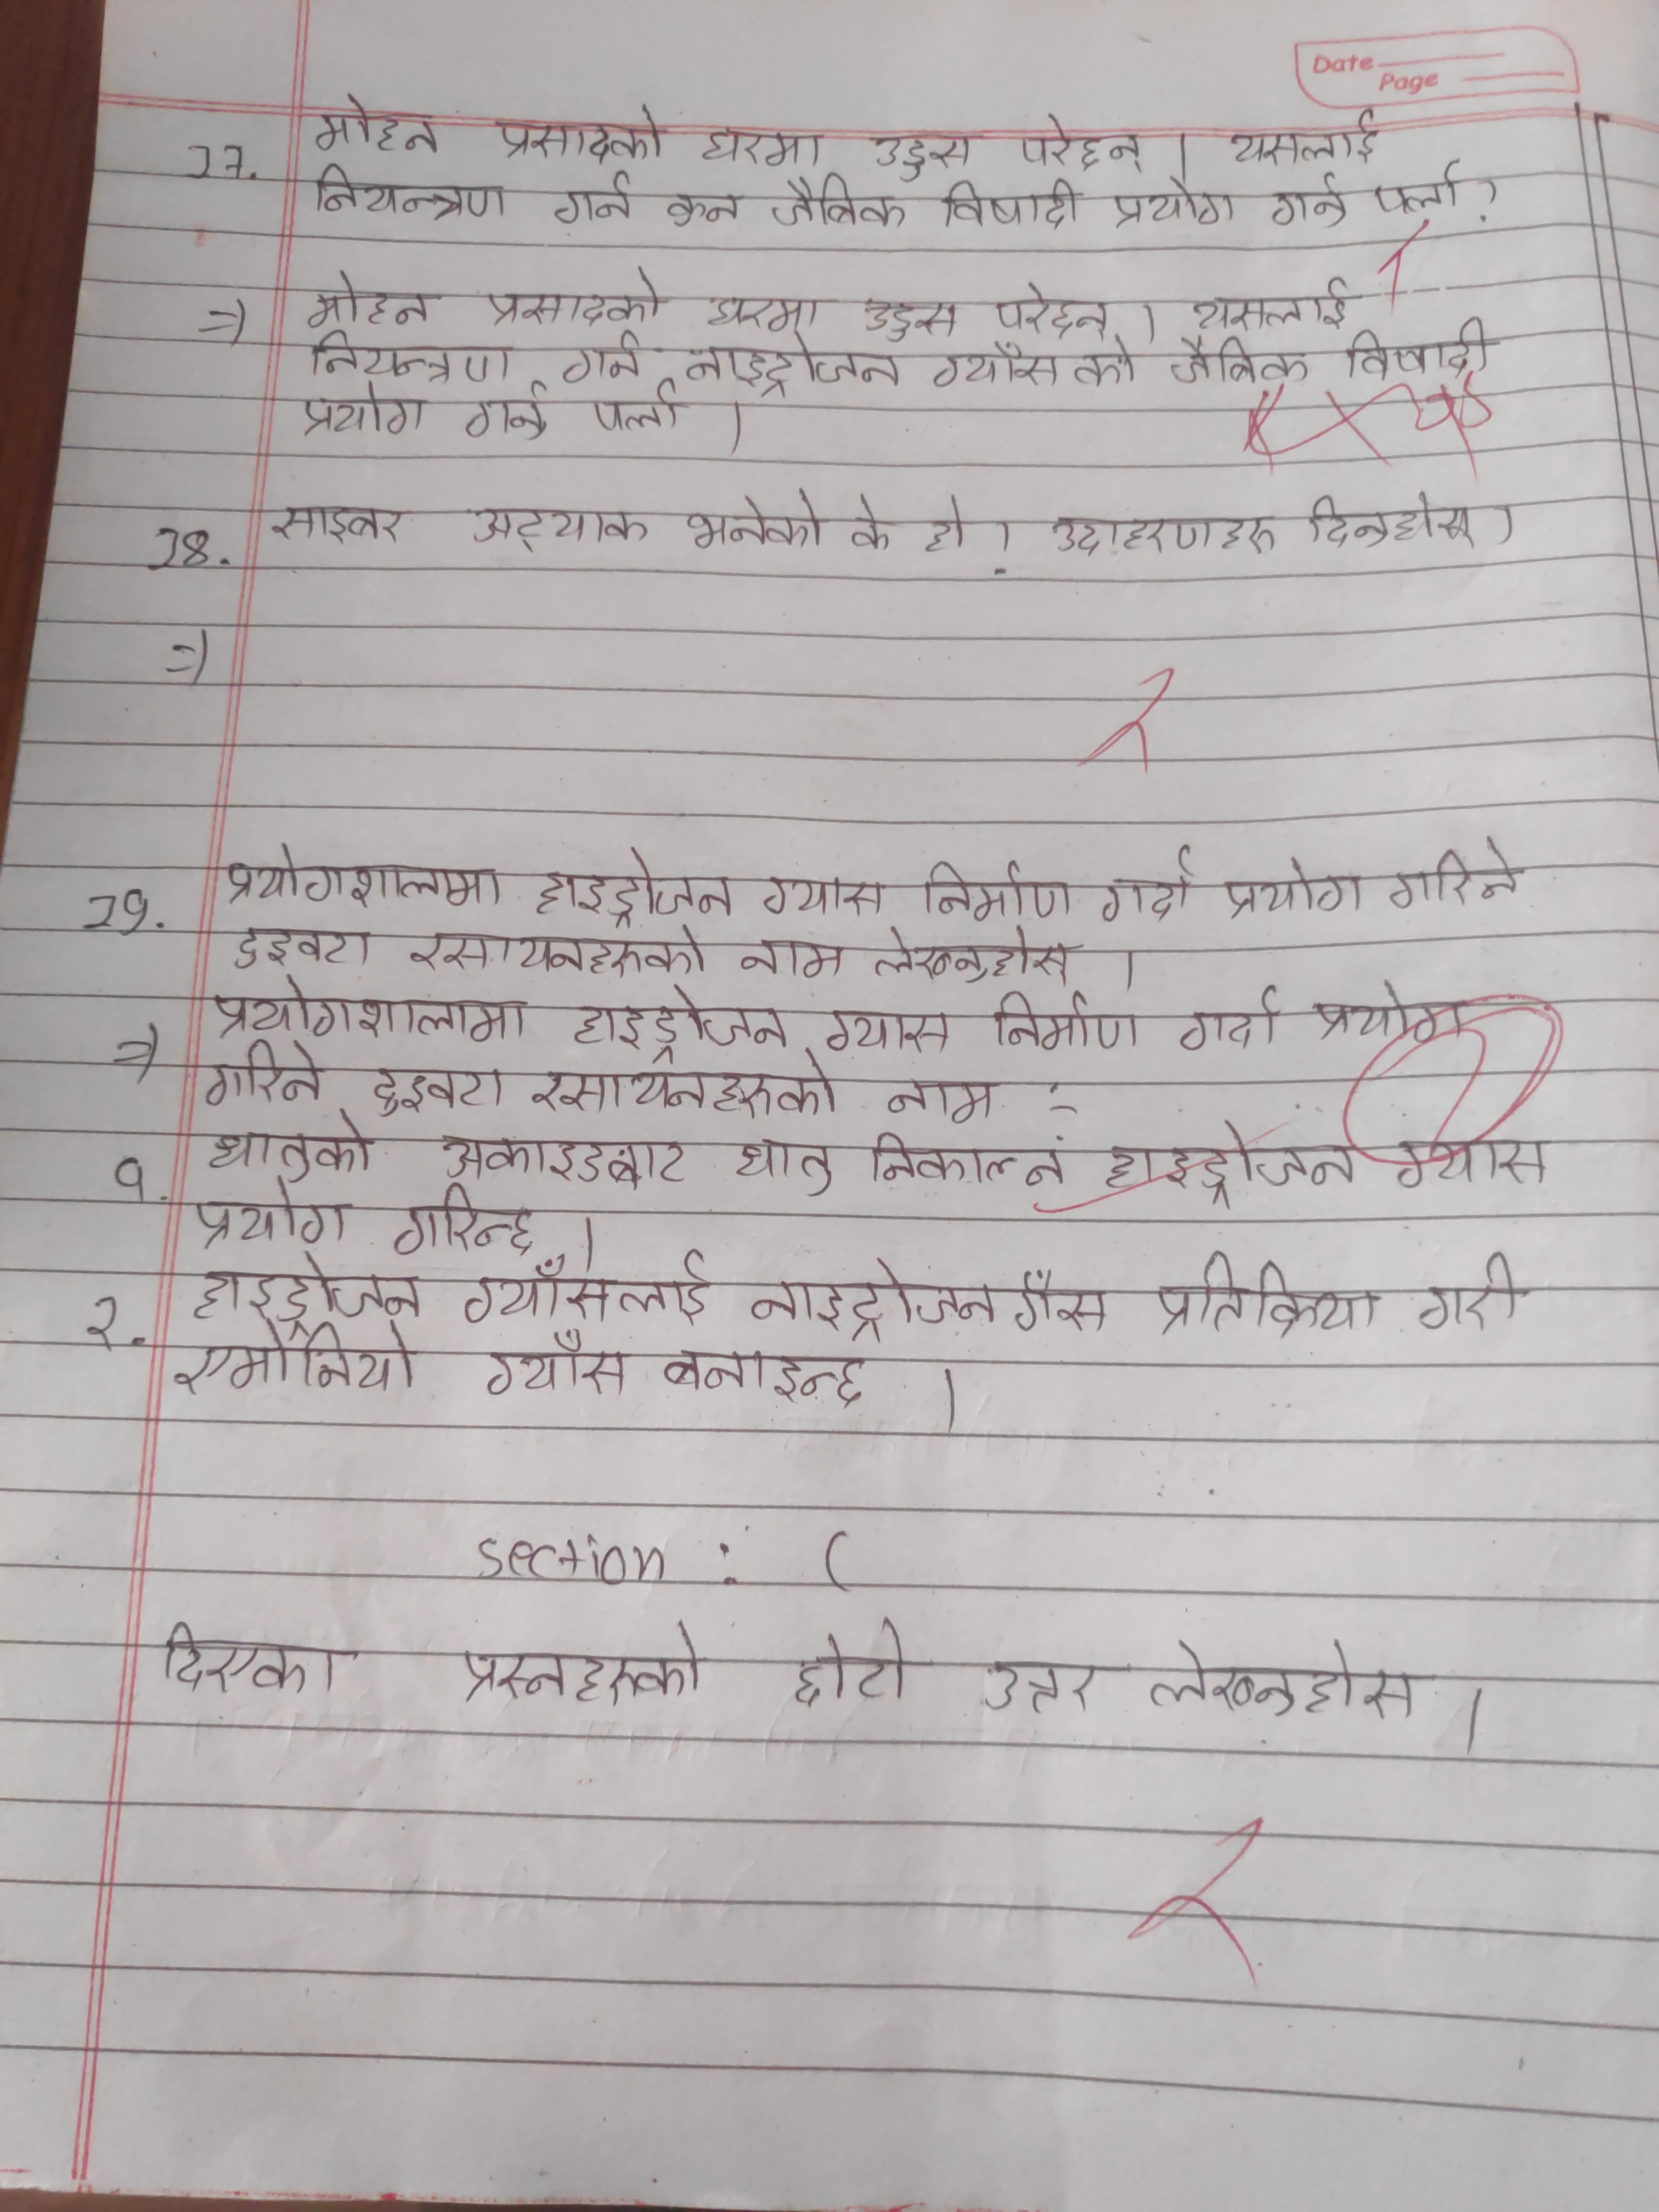text: (748, 1256, 1121, 1339), (1147, 1630, 1438, 1724), (528, 1043, 845, 1125), (455, 1620, 709, 1712), (1094, 1120, 1361, 1204), (209, 979, 535, 1045), (1150, 1249, 1377, 1339), (221, 845, 505, 911), (410, 918, 708, 981), (460, 1256, 716, 1327), (568, 984, 795, 1064), (185, 1249, 429, 1322), (153, 1615, 354, 1703), (173, 1329, 422, 1397), (526, 843, 739, 921), (432, 1129, 699, 1190), (660, 1332, 866, 1407), (1040, 503, 1279, 568), (674, 336, 917, 397), (864, 1123, 1068, 1195), (298, 158, 512, 225), (922, 340, 1148, 397), (293, 329, 523, 385), (479, 1322, 634, 1404), (479, 265, 669, 329), (389, 1184, 540, 1264), (486, 99, 669, 165), (1384, 1125, 1553, 1197), (920, 853, 1079, 928), (1302, 981, 1486, 1043), (188, 1181, 354, 1251), (983, 988, 1150, 1055), (1298, 493, 1486, 552), (793, 1622, 915, 1712), (871, 934, 1082, 984), (1230, 99, 1384, 167), (1185, 272, 1358, 331), (1338, 331, 1518, 387), (678, 484, 824, 552), (206, 1120, 368, 1181), (193, 1038, 328, 1111), (1218, 857, 1366, 923), (464, 503, 657, 554), (1415, 1249, 1532, 1332), (1385, 841, 1530, 907), (1016, 105, 1152, 174), (361, 1059, 509, 1120), (976, 1656, 1115, 1721), (1175, 982, 1288, 1061), (308, 94, 441, 160), (301, 268, 437, 333), (823, 998, 950, 1066), (1169, 333, 1309, 394), (749, 867, 892, 927), (931, 176, 1094, 226), (263, 500, 415, 554), (1094, 846, 1201, 923), (765, 178, 915, 232), (296, 383, 430, 442), (985, 280, 1121, 336), (1103, 183, 1237, 239), (232, 920, 373, 972), (857, 125, 979, 185), (732, 928, 852, 984), (734, 1134, 840, 1197), (551, 165, 648, 233), (880, 1075, 1006, 1127), (852, 293, 967, 347), (699, 122, 833, 167), (1368, 164, 1469, 221), (586, 387, 695, 435), (699, 291, 826, 333), (462, 387, 549, 446), (1270, 172, 1351, 235), (559, 333, 652, 387), (659, 185, 751, 233), (922, 488, 978, 564), (843, 500, 896, 556)
